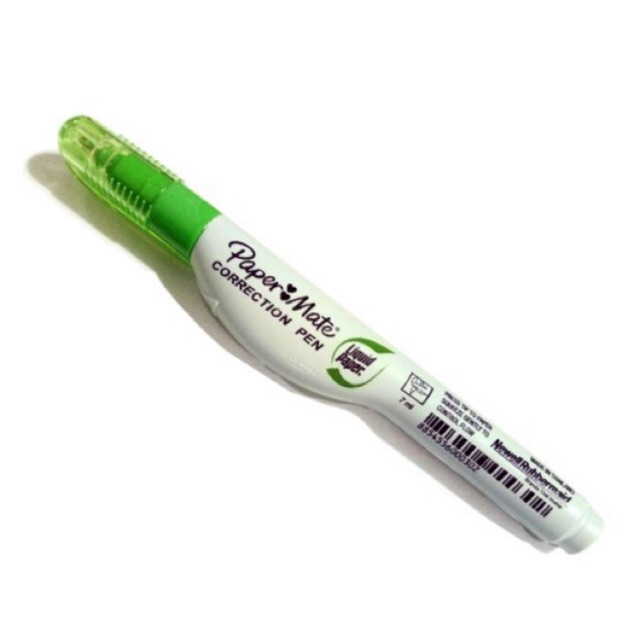Correction_fluid: (49, 107, 609, 563)
